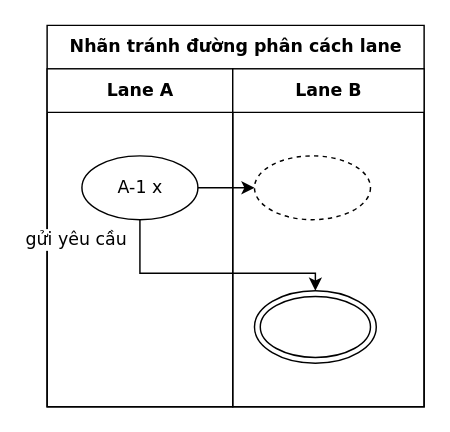
Some shapes in this 450 by 432 pixel diagram are drawn without their labels. The shapes that lost their labels are listed below. From the top down, each one's centre as x and y in pixels, then its label:
At (311,187): "B-2 x".
At (314,326): "B-3 x".
